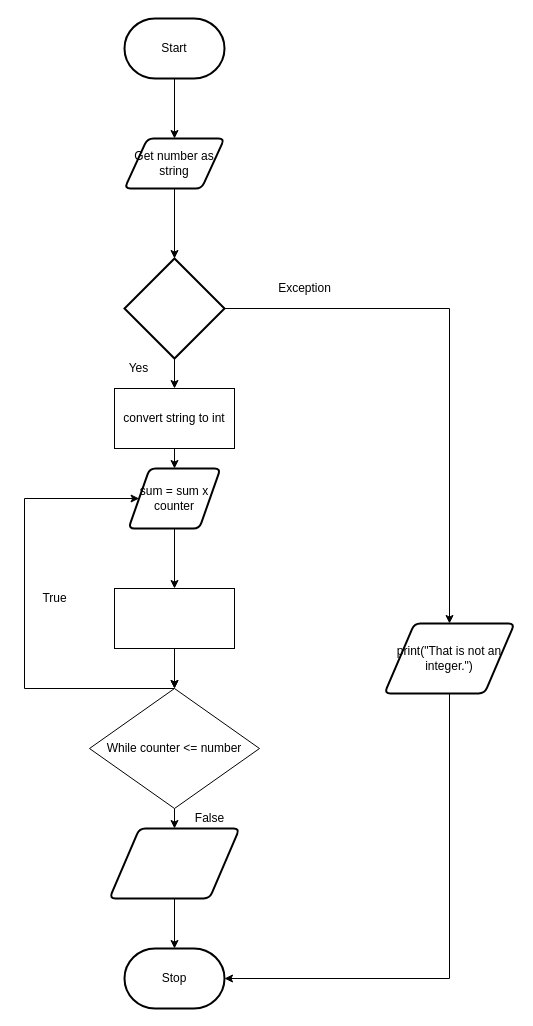
The diagram is 533 pixels wide and 1026 high, and some of its shapes have lost their labels. Each missing label, with the centre of its shape:
counter = counter + 1: [174,618]
print("{0}! = {1}").format(number, sum): [174,863]
try: [174,308]
